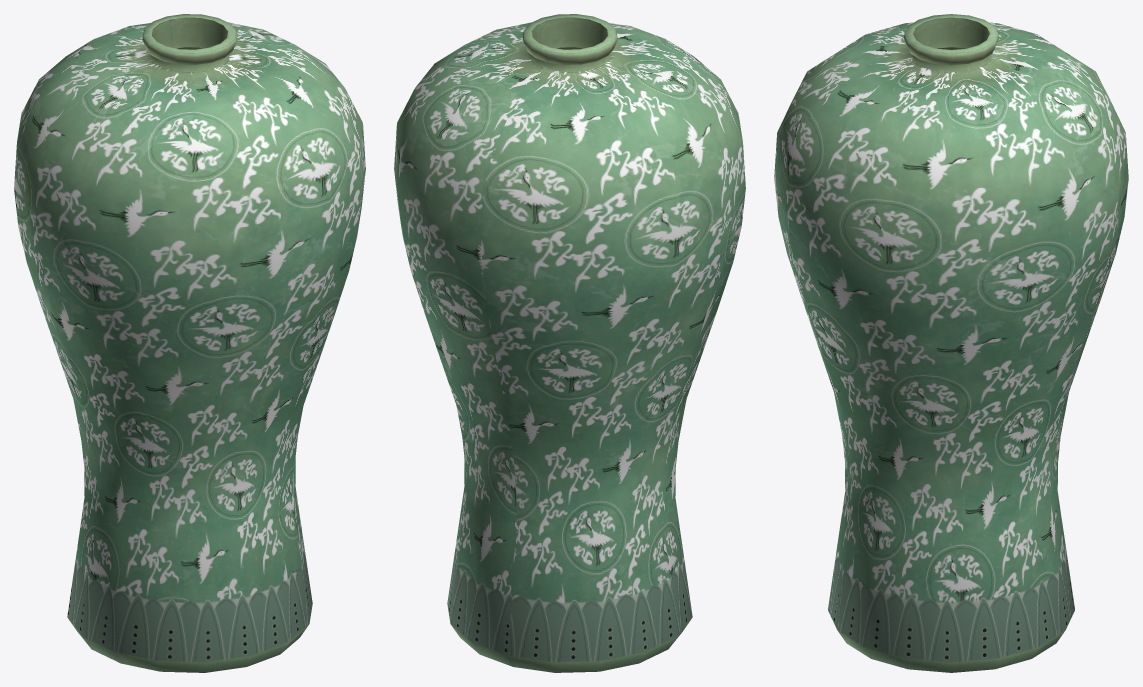
The model's file is blue_ceramic.fbx.
3 renders of one model, left to right at view 1: azimuth 30°, elevation 25°; view 2: azimuth 150°, elevation 25°; view 3: azimuth 270°, elevation 25°, orthographic.
Parts seen in each view (by area): view 1: blue_low; view 2: blue_low; view 3: blue_low.
Boxes of the visible parts, box(x1,y1,x2,y2) form: blue_low: box(14, 14, 365, 672); blue_low: box(394, 14, 745, 672); blue_low: box(774, 14, 1128, 672).
Bounding box in the file's own units: 39.9 × 73.41 × 39.9.
